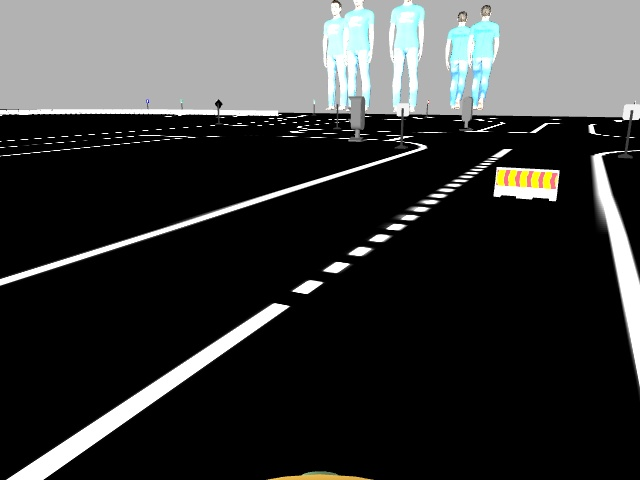ClosedRoadStand: (497, 166, 557, 199)
